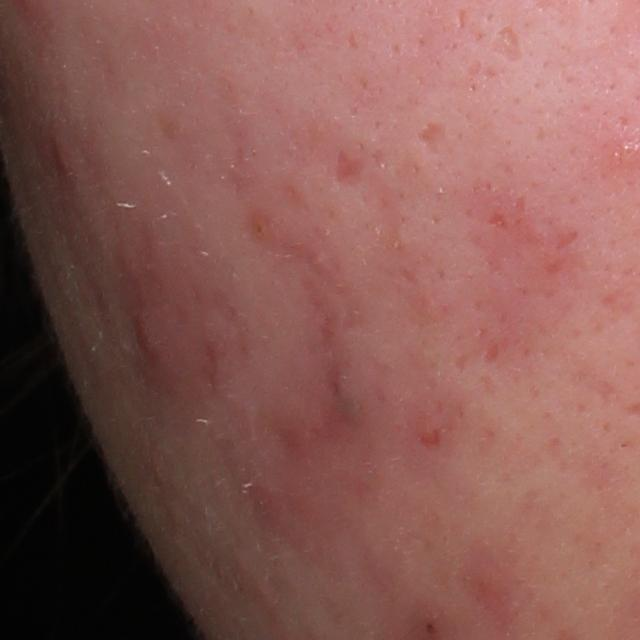atrophic_scar: (413, 119, 450, 160), (488, 23, 525, 62), (332, 148, 364, 188), (484, 209, 511, 232), (455, 7, 469, 30)
papule: (131, 304, 178, 368), (51, 137, 77, 178)
